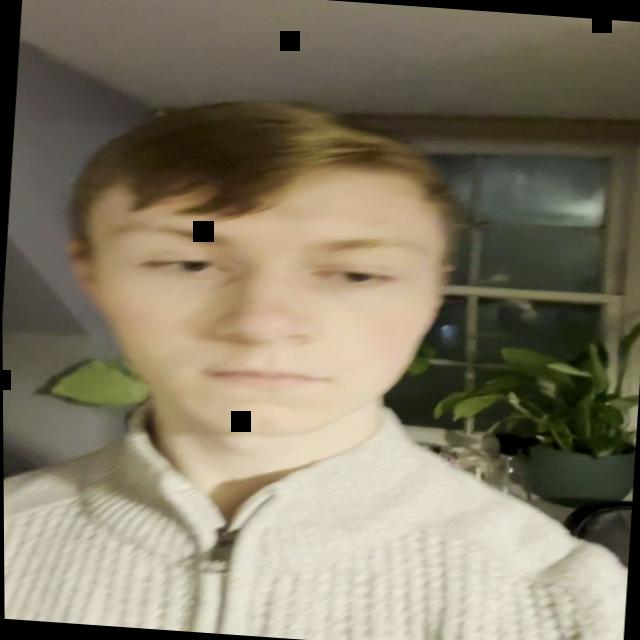NO-Mask: (66, 140, 451, 445)
